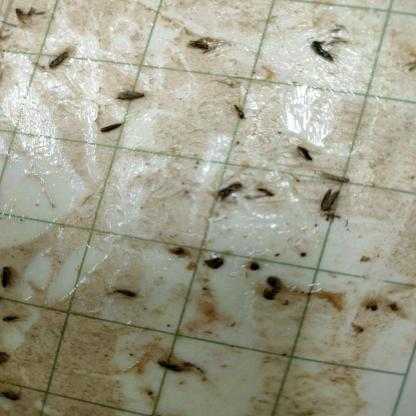prays_oleae: (157, 339, 195, 386), (99, 114, 129, 158), (46, 37, 77, 77), (108, 279, 144, 311), (13, 0, 37, 40), (310, 37, 339, 70), (184, 31, 218, 58), (119, 75, 149, 104), (318, 180, 340, 216), (0, 259, 19, 286)
